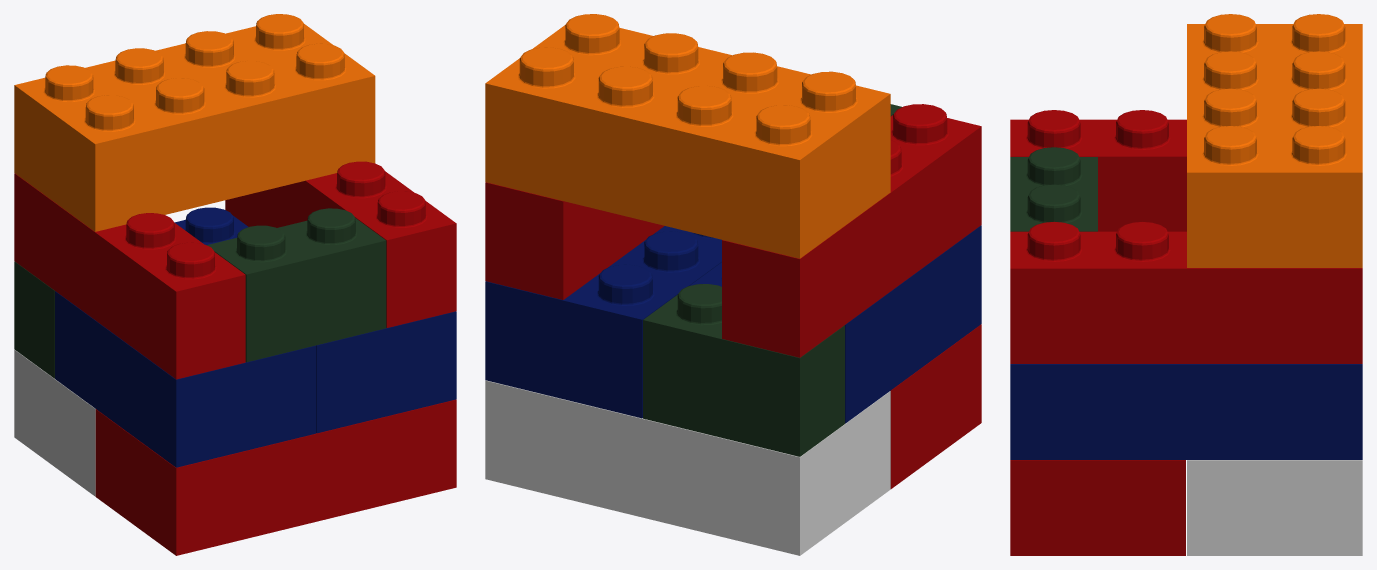
File: mod4.dae
3 views of the same model, side by side, from view 1: azimuth 30°, elevation 25°; view 2: azimuth 150°, elevation 25°; view 3: azimuth 270°, elevation 25° (orthographic). The views are drawn at different scales.
Visible parts, largest first — view 1: Part.3, Part.1, Part.8, Part.4, Part.5, Part.7, Part.2, Part.0, Part.6; view 2: Part.3, Part.0, Part.8, Part.2, Part.6, Part.4, Part.7, Part.1; view 3: Part.3, Part.7, Part.2, Part.0, Part.1, Part.8, Part.5.
Boxes of the visible parts, bbox=[...] form: Part.3: bbox=[14, 14, 375, 231]; Part.1: bbox=[95, 399, 456, 555]; Part.8: bbox=[14, 173, 245, 379]; Part.4: bbox=[55, 291, 315, 467]; Part.5: bbox=[207, 208, 386, 362]; Part.7: bbox=[225, 161, 456, 327]; Part.2: bbox=[174, 207, 456, 433]; Part.0: bbox=[14, 349, 95, 496]; Part.6: bbox=[14, 261, 54, 378]; Part.3: bbox=[485, 14, 890, 258]; Part.0: bbox=[485, 380, 890, 555]; Part.8: bbox=[722, 104, 981, 357]; Part.2: bbox=[485, 226, 721, 418]; Part.6: bbox=[643, 284, 844, 456]; Part.4: bbox=[690, 225, 981, 423]; Part.7: bbox=[485, 182, 664, 299]; Part.1: bbox=[890, 324, 981, 488]; Part.3: bbox=[1187, 14, 1362, 267]; Part.7: bbox=[1010, 221, 1362, 363]; Part.2: bbox=[1010, 364, 1362, 459]; Part.0: bbox=[1187, 460, 1362, 555]; Part.1: bbox=[1010, 460, 1185, 555]; Part.8: bbox=[1010, 110, 1186, 231]; Part.5: bbox=[1010, 147, 1097, 231].
Size of the model in its own units: 31.92 by 40.18 by 31.92.
